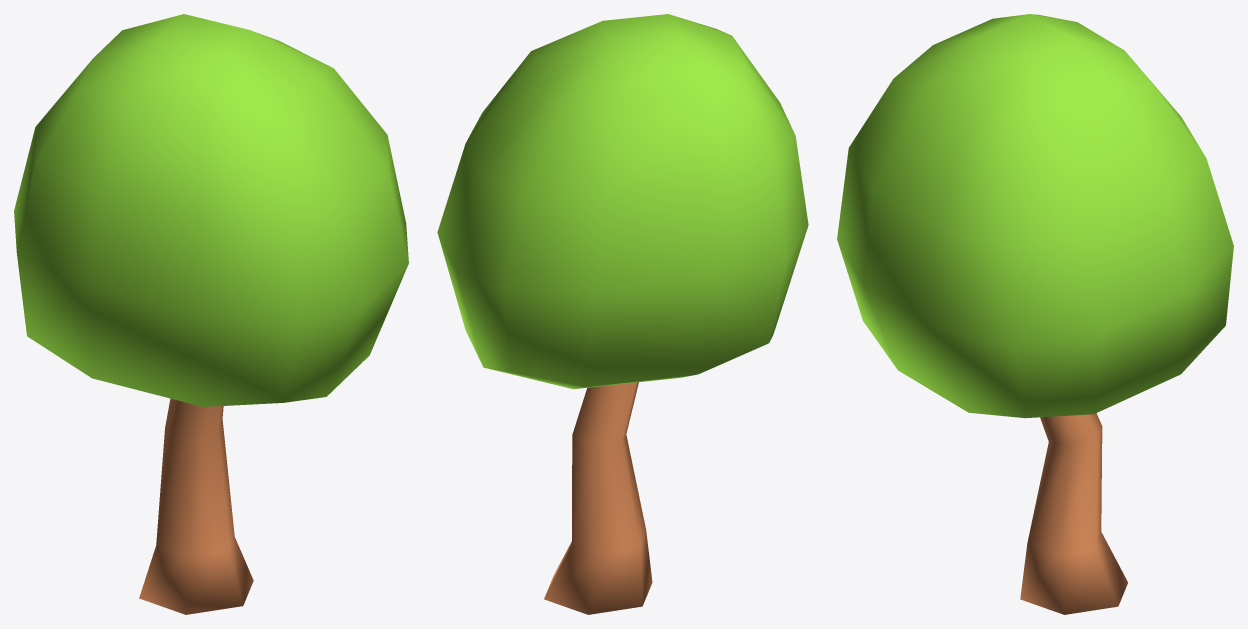
Rendered from Tree_Small.fbx.
3 views of the same model, side by side, from view 1: azimuth 30°, elevation 25°; view 2: azimuth 150°, elevation 25°; view 3: azimuth 270°, elevation 25° (orthographic). The views are drawn at different scales.
Visible parts, largest first — view 1: tree_small; view 2: tree_small; view 3: tree_small.
Part boxes in pixels (left/top/right/bottom): tree_small: left=14, top=14, right=408, bottom=614; tree_small: left=437, top=14, right=808, bottom=614; tree_small: left=837, top=14, right=1233, bottom=614.
Size of the model in its own units: 335 by 508 by 333.
